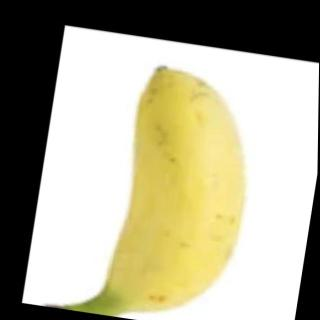banana: (99, 57, 267, 320)
